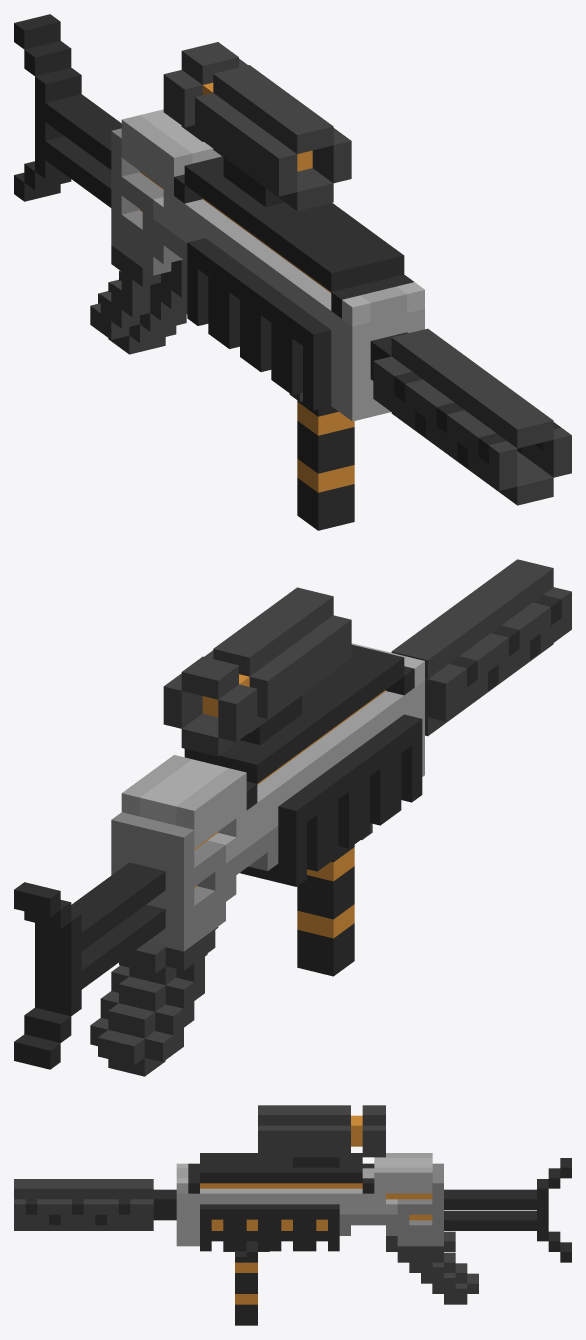
Rendered from Rifle.obj.
3 views of the same model, one above another, from view 1: azimuth 30°, elevation 25°; view 2: azimuth 150°, elevation 25°; view 3: azimuth 270°, elevation 25° (orthographic). The views are drawn at different scales.
Bounding box in the file's own units: 0.6 × 2 × 4.8.
Materials: 1 (1 with a texture image).
